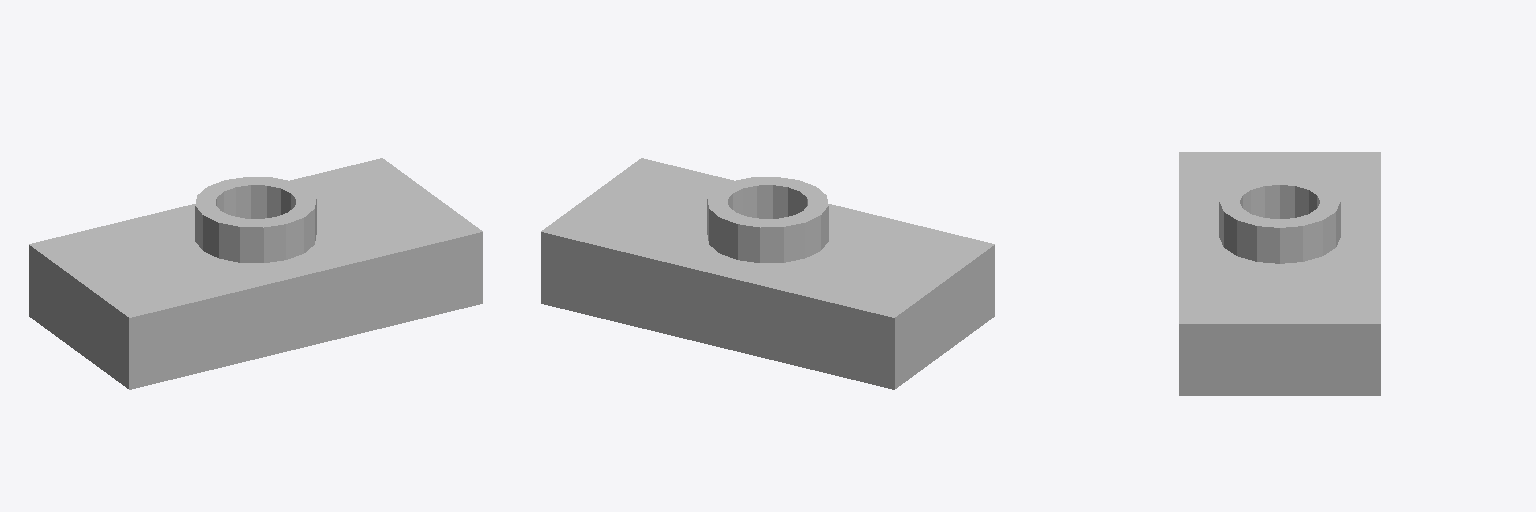
The model's file is Plate_Center_Stud_1x2.obj.
3 views of the same model, side by side, from view 1: azimuth 30°, elevation 25°; view 2: azimuth 150°, elevation 25°; view 3: azimuth 270°, elevation 25° (orthographic).
Parts seen in each view (by area): view 1: box5_2.box5_2n_box5_2.009, 4-4cyli_3.4-4cyli_3n_4-4cyli_3.010, 4-4ring2_1.4-4ring2_1n_4-4ring2_1.001, 4-4cyli_2.4-4cyli_2n_4-4cyli_2.010; view 2: box5_2.box5_2n_box5_2.009, 4-4cyli_3.4-4cyli_3n_4-4cyli_3.010, 4-4ring2_1.4-4ring2_1n_4-4ring2_1.001, 4-4cyli_2.4-4cyli_2n_4-4cyli_2.010; view 3: box5_2.box5_2n_box5_2.009, 4-4cyli_3.4-4cyli_3n_4-4cyli_3.010, 4-4ring2_1.4-4ring2_1n_4-4ring2_1.001, 4-4cyli_2.4-4cyli_2n_4-4cyli_2.010.
Part boxes in pixels (bbox=[...]): box5_2.box5_2n_box5_2.009: bbox=[29, 158, 482, 389]; 4-4cyli_3.4-4cyli_3n_4-4cyli_3.010: bbox=[195, 199, 316, 262]; 4-4ring2_1.4-4ring2_1n_4-4ring2_1.001: bbox=[195, 177, 316, 227]; 4-4cyli_2.4-4cyli_2n_4-4cyli_2.010: bbox=[216, 185, 295, 218]; box5_2.box5_2n_box5_2.009: bbox=[541, 158, 994, 389]; 4-4cyli_3.4-4cyli_3n_4-4cyli_3.010: bbox=[707, 199, 828, 262]; 4-4ring2_1.4-4ring2_1n_4-4ring2_1.001: bbox=[707, 177, 828, 227]; 4-4cyli_2.4-4cyli_2n_4-4cyli_2.010: bbox=[728, 185, 807, 218]; box5_2.box5_2n_box5_2.009: bbox=[1179, 152, 1380, 395]; 4-4cyli_3.4-4cyli_3n_4-4cyli_3.010: bbox=[1219, 202, 1340, 263]; 4-4ring2_1.4-4ring2_1n_4-4ring2_1.001: bbox=[1220, 176, 1339, 227]; 4-4cyli_2.4-4cyli_2n_4-4cyli_2.010: bbox=[1240, 185, 1319, 218].
Bounding box in the file's own units: 3.95 × 1.15 × 1.95.